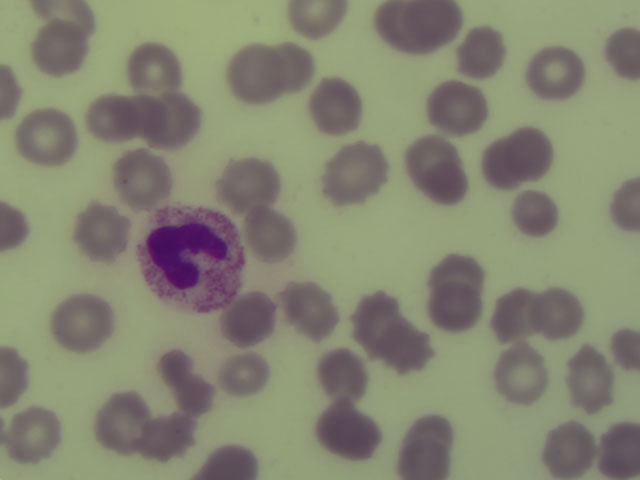RBC: (137, 411, 201, 459), (390, 1, 450, 50), (52, 297, 108, 348), (20, 112, 74, 161), (194, 442, 260, 480), (512, 189, 562, 239), (400, 423, 450, 473), (380, 322, 430, 372), (347, 291, 397, 341), (531, 49, 581, 99), (433, 84, 483, 134), (408, 141, 458, 191), (330, 148, 380, 198), (309, 79, 359, 129), (322, 406, 372, 456), (317, 349, 367, 399), (283, 282, 333, 332), (223, 294, 273, 344), (159, 353, 209, 403), (97, 398, 147, 448), (7, 409, 57, 459), (243, 211, 293, 261), (221, 157, 271, 207), (114, 151, 164, 201), (73, 208, 123, 258), (455, 26, 505, 76), (265, 40, 315, 90), (231, 49, 281, 99), (148, 96, 198, 146), (85, 92, 135, 142), (130, 41, 180, 91), (35, 25, 85, 75), (542, 423, 592, 473), (564, 354, 614, 404), (495, 351, 545, 401), (534, 287, 584, 337), (489, 290, 539, 340), (492, 130, 542, 180), (32, 1, 99, 36), (601, 23, 640, 82), (219, 352, 268, 397), (603, 420, 640, 479), (1, 341, 32, 410), (289, 1, 346, 37), (430, 288, 480, 328), (431, 255, 484, 292), (611, 174, 640, 237), (123, 96, 165, 137), (1, 198, 30, 255)
WBC: (138, 205, 239, 315)
